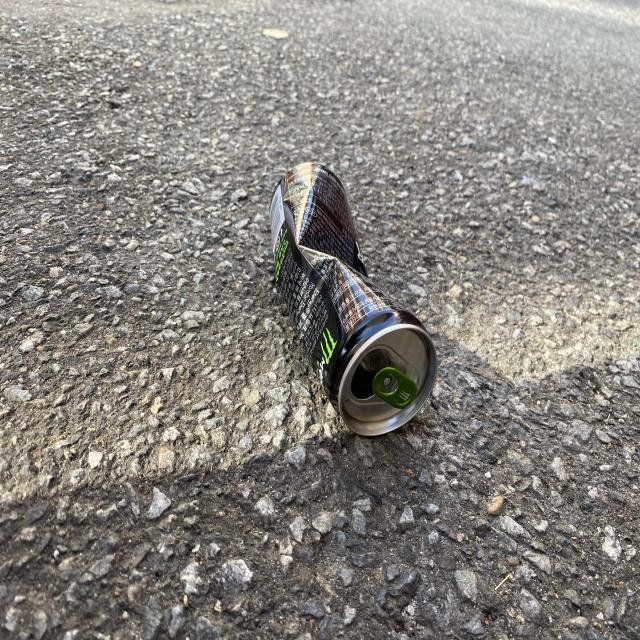can: (270, 162, 438, 436)
